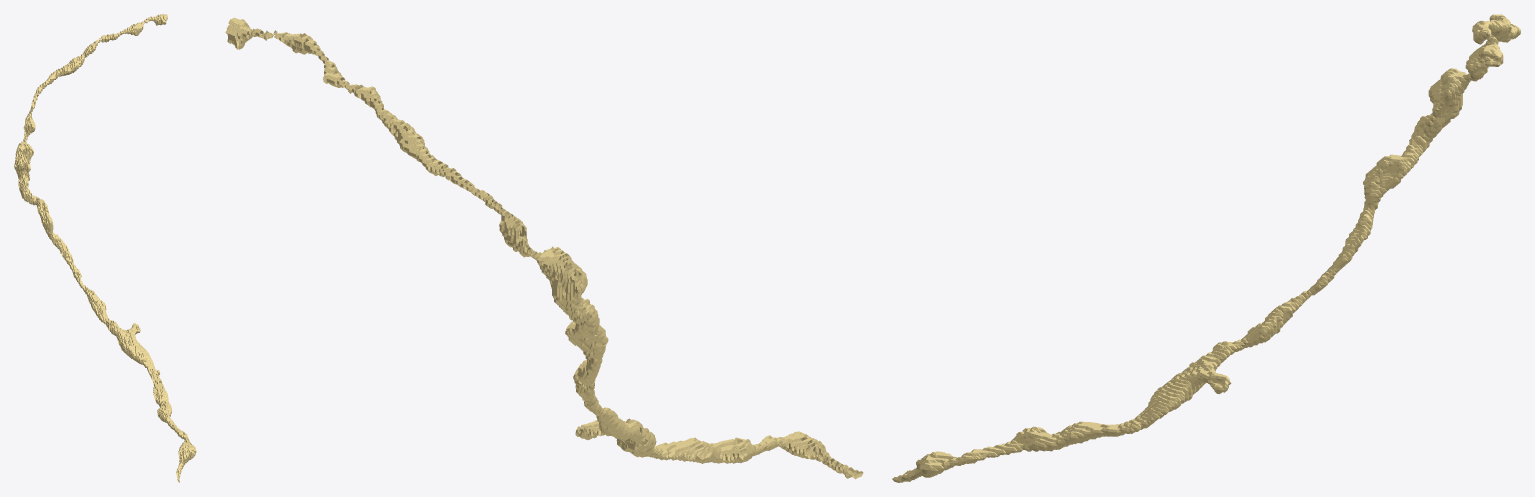
File: SVV_ASHL.gltf
3 views of the same model, side by side, from view 1: azimuth 30°, elevation 25°; view 2: azimuth 150°, elevation 25°; view 3: azimuth 270°, elevation 25° (orthographic). The views are drawn at different scales.
Visible parts, largest first — view 1: ASHL; view 2: ASHL; view 3: ASHL.
Boxes of the visible parts, x1,y1,x2,y2 form: ASHL: (14, 14, 196, 482); ASHL: (225, 17, 863, 479); ASHL: (892, 14, 1520, 482).
Bounding box in the file's own units: 82909 × 149708 × 151260.
